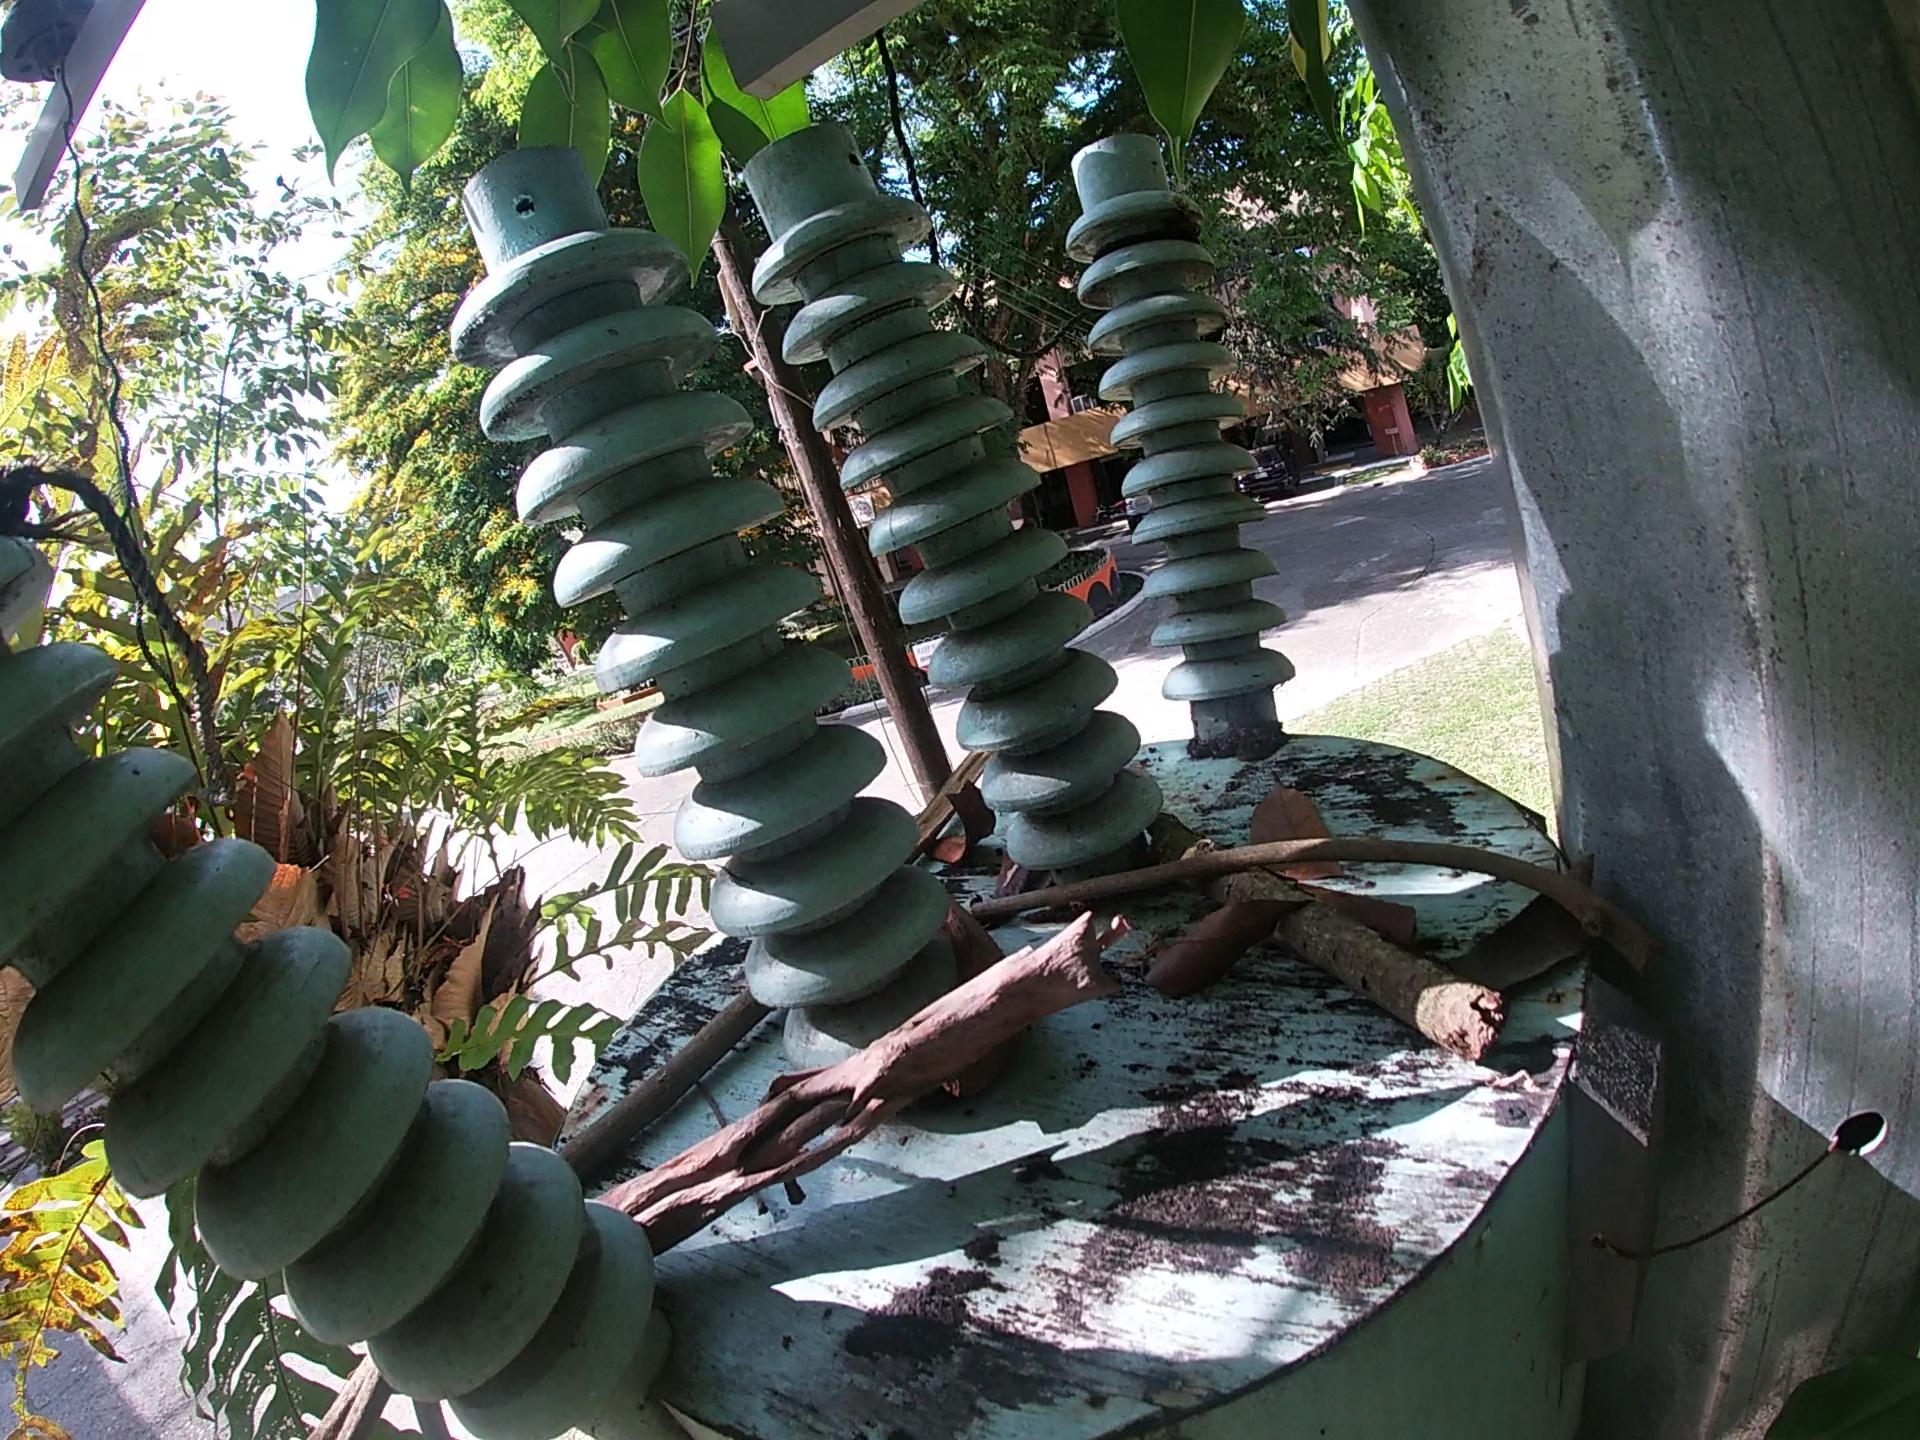leaf: (1442, 850, 1603, 998), (1135, 892, 1318, 1001), (1243, 771, 1368, 886), (1303, 874, 1426, 956)
mahogany fruit: (925, 892, 1036, 1112), (924, 781, 1008, 873)
tree branch: (585, 905, 1140, 1258), (963, 827, 1665, 982), (1147, 812, 1510, 1075), (559, 985, 776, 1187)
